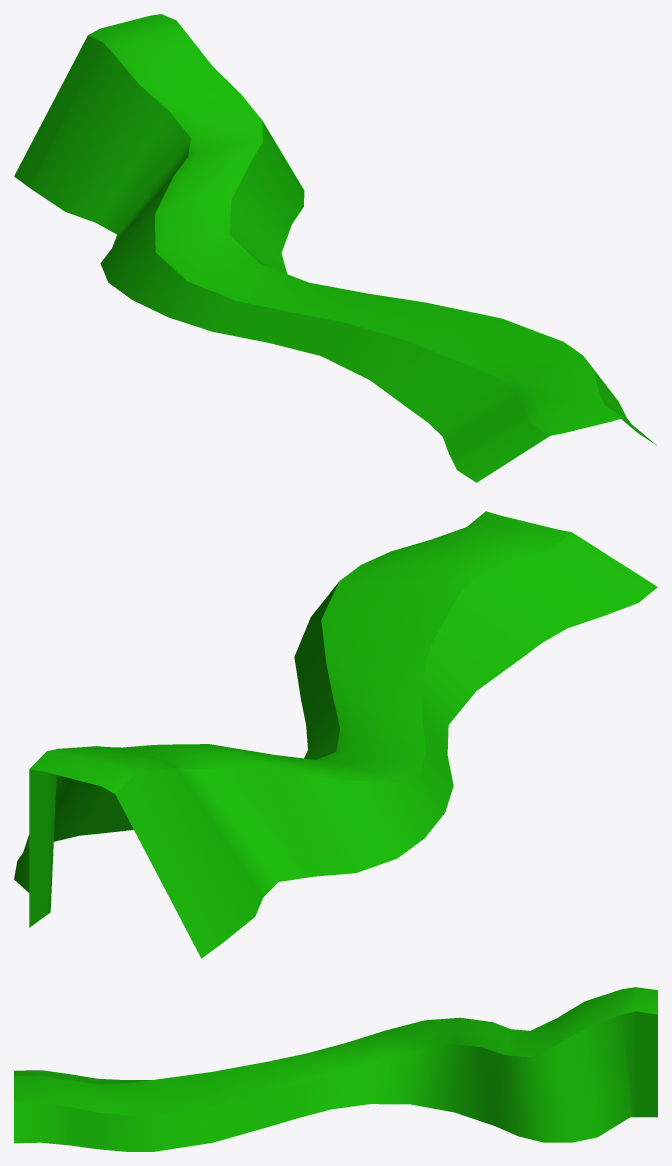
File: TownPath.FBX
3 renders of one model, top to bottom at view 1: azimuth 30°, elevation 25°; view 2: azimuth 150°, elevation 25°; view 3: azimuth 270°, elevation 25°, orthographic. The views are drawn at different scales.
Parts seen in each view (by area): view 1: Town_Path; view 2: Town_Path; view 3: Town_Path.
Part boxes in pixels (bbox=[...]): Town_Path: bbox=[14, 14, 656, 482]; Town_Path: bbox=[14, 511, 657, 958]; Town_Path: bbox=[14, 987, 657, 1151].
Bounding box in the file's own units: 1422 × 696 × 3796.
